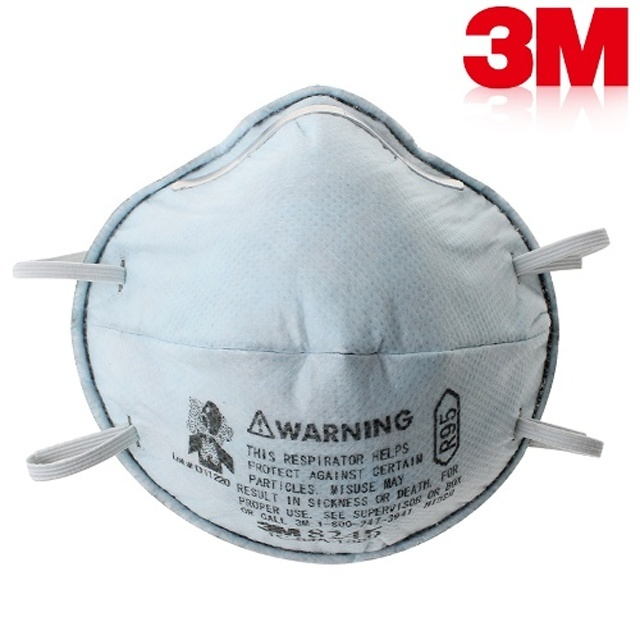mask: (13, 83, 616, 569)
